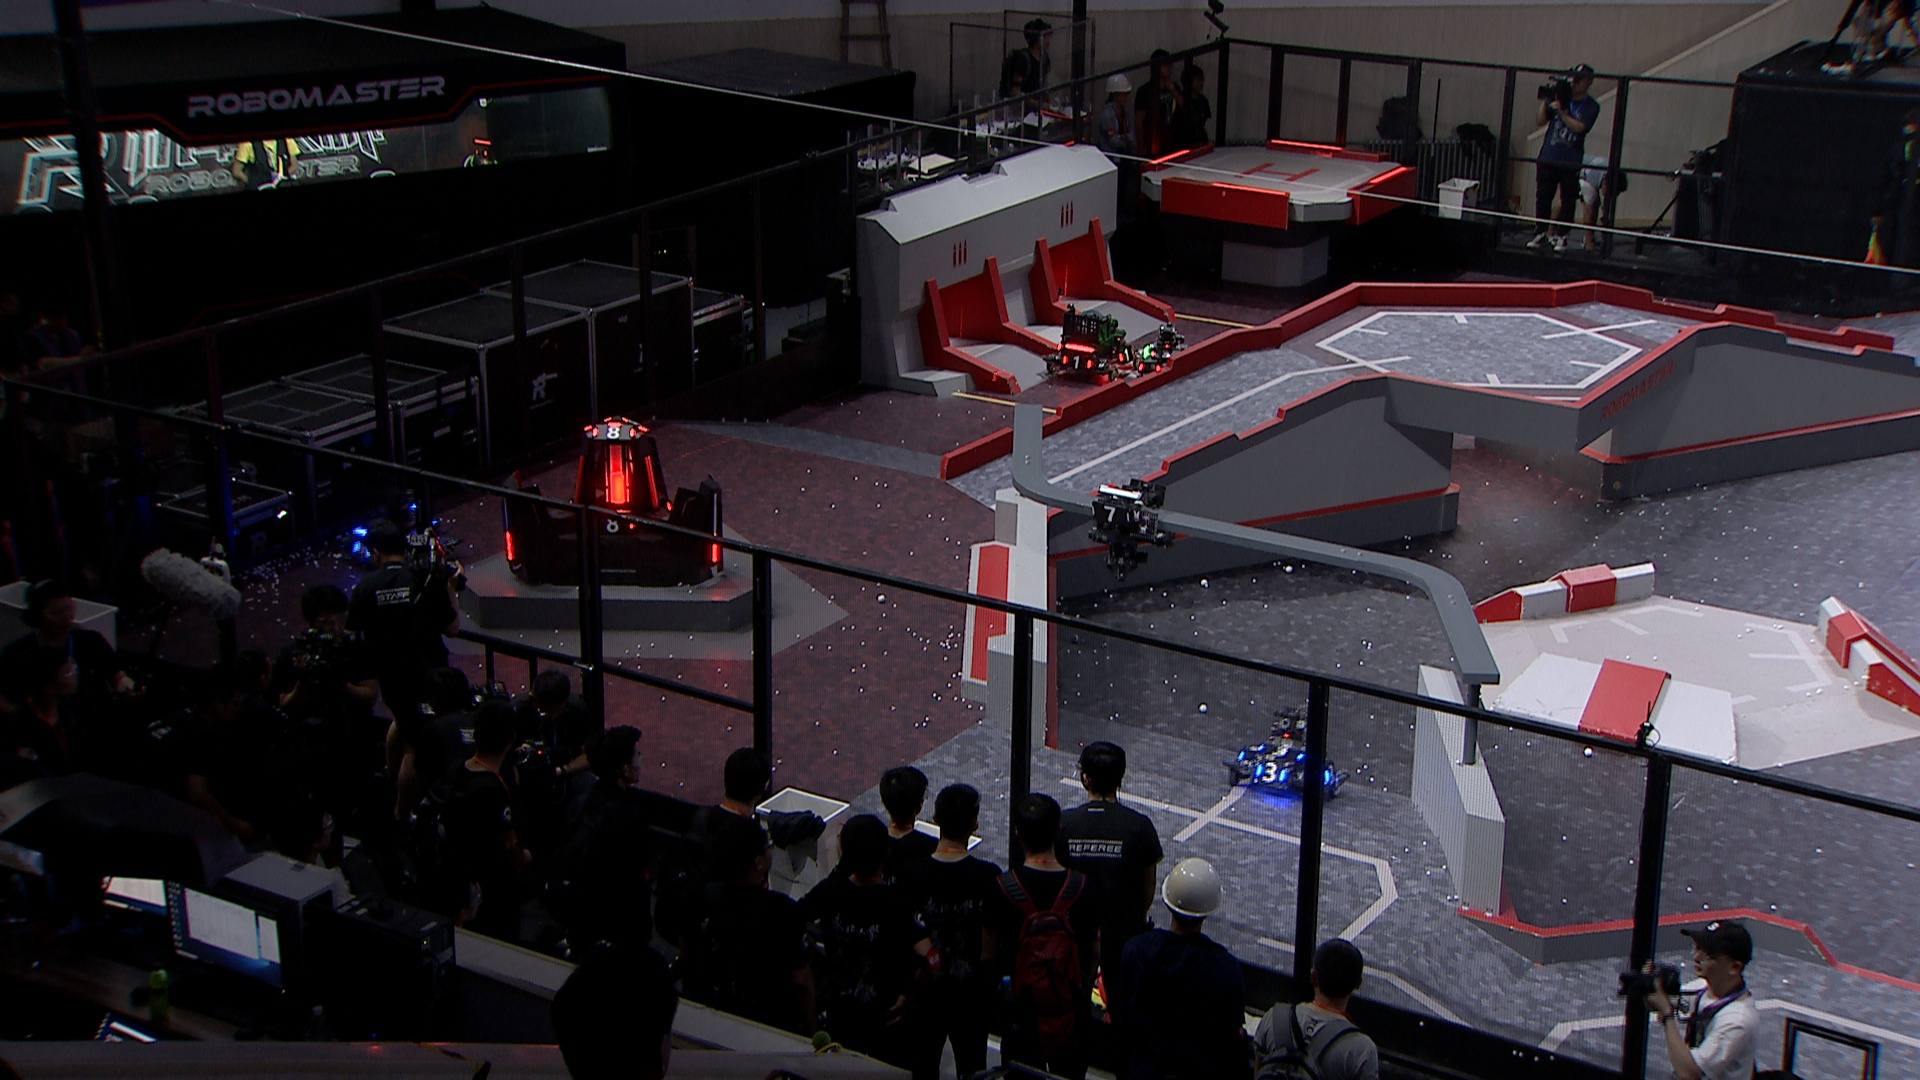armor: (641, 452, 659, 510), (1253, 741, 1305, 761), (1091, 502, 1134, 526), (568, 456, 588, 505), (589, 425, 638, 442), (607, 467, 628, 506), (1254, 761, 1288, 785), (597, 516, 637, 535), (1059, 352, 1096, 373), (501, 529, 518, 564), (1320, 764, 1338, 787), (707, 541, 724, 566), (1116, 344, 1135, 365), (1149, 348, 1174, 361)
base: (498, 413, 727, 593)
car: (1222, 707, 1353, 803), (342, 491, 456, 568), (1043, 305, 1135, 382), (1129, 320, 1195, 380)
watcher: (1087, 477, 1178, 582)
